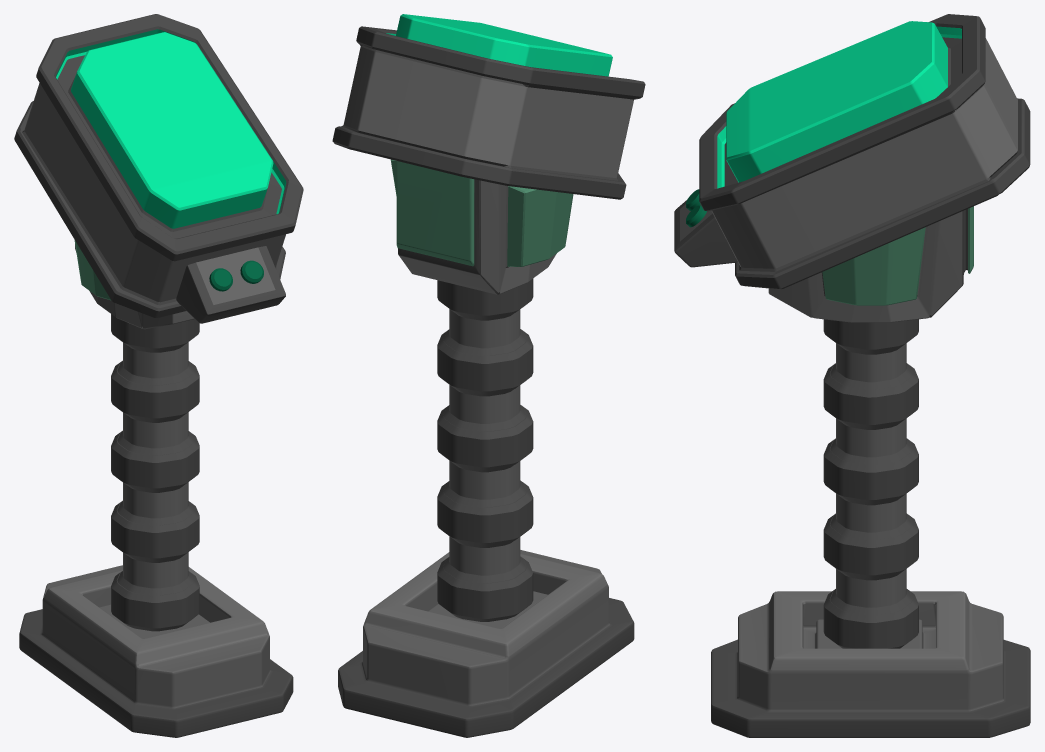
The model's file is keypad.fbx.
3 views of the same model, side by side, from view 1: azimuth 30°, elevation 25°; view 2: azimuth 150°, elevation 25°; view 3: azimuth 270°, elevation 25° (orthographic). The views are drawn at different scales.
Parts seen in each view (by area): view 1: pCube2, pCube4, pCylinder1, pCube5, pCube3; view 2: pCube2, pCube4, pCylinder1, pCube3; view 3: pCube2, pCube4, pCylinder1, pCube3, pCube5.
Part boxes in pixels (x1=…): pCube2: x1=14, y1=14, x2=303, y2=317; pCube4: x1=19, y1=565, x2=293, y2=737; pCylinder1: x1=111, y1=314, x2=199, y2=631; pCube5: x1=176, y1=246, x2=285, y2=323; pCube3: x1=74, y1=240, x2=194, y2=329; pCube2: x1=332, y1=14, x2=645, y2=199; pCube4: x1=338, y1=550, x2=634, y2=737; pCylinder1: x1=437, y1=278, x2=533, y2=621; pCube3: x1=390, y1=159, x2=573, y2=294; pCube2: x1=699, y1=14, x2=1030, y2=289; pCube4: x1=711, y1=591, x2=1030, y2=737; pCylinder1: x1=823, y1=319, x2=918, y2=648; pCube3: x1=768, y1=206, x2=973, y2=322; pCube5: x1=674, y1=200, x2=737, y2=267.
Size of the model in its own units: 2.13 by 7.25 by 3.58.
